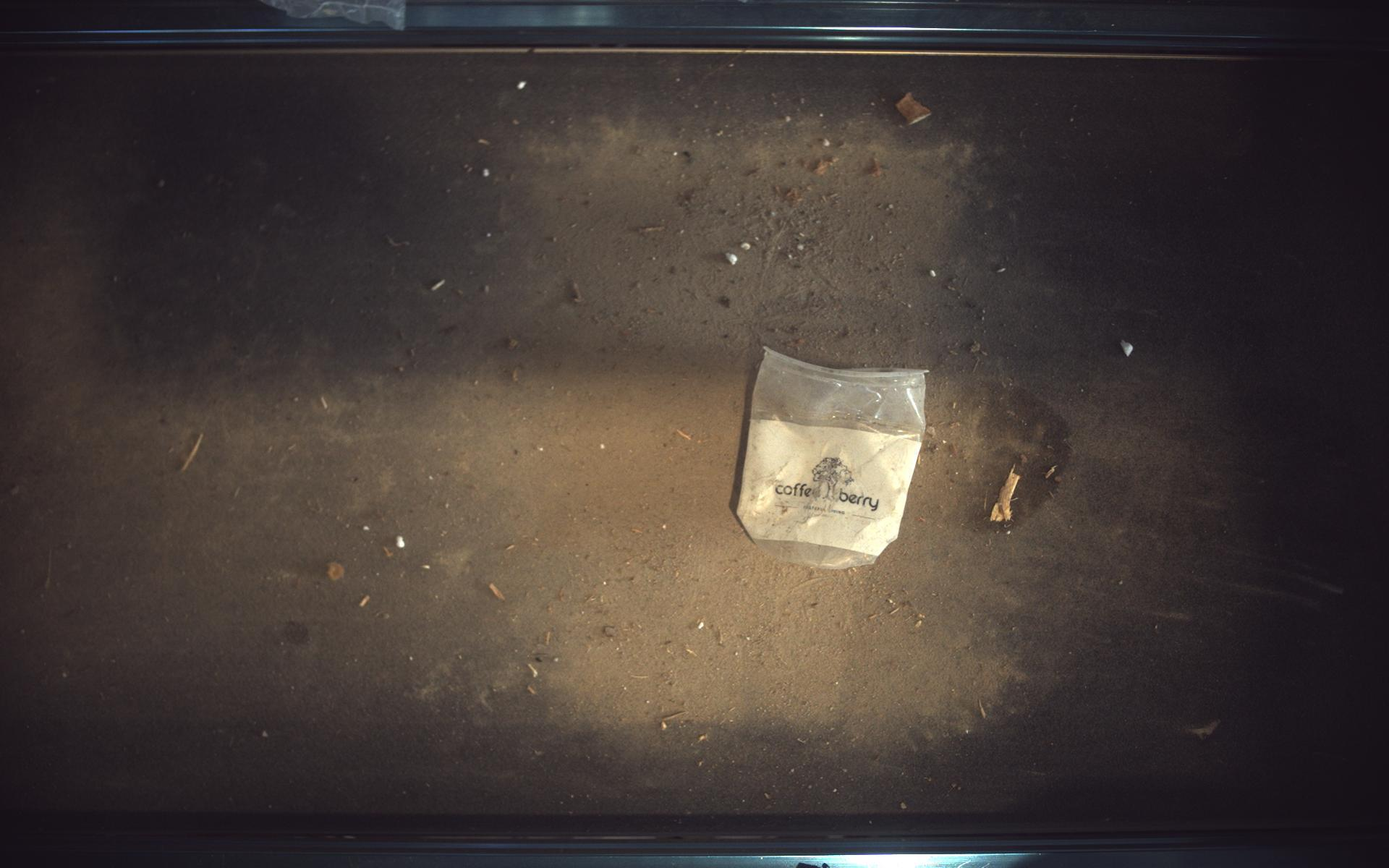general_w: (738, 347, 928, 569)
